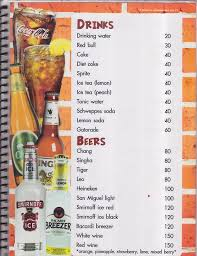coke: (13, 6, 69, 98)
